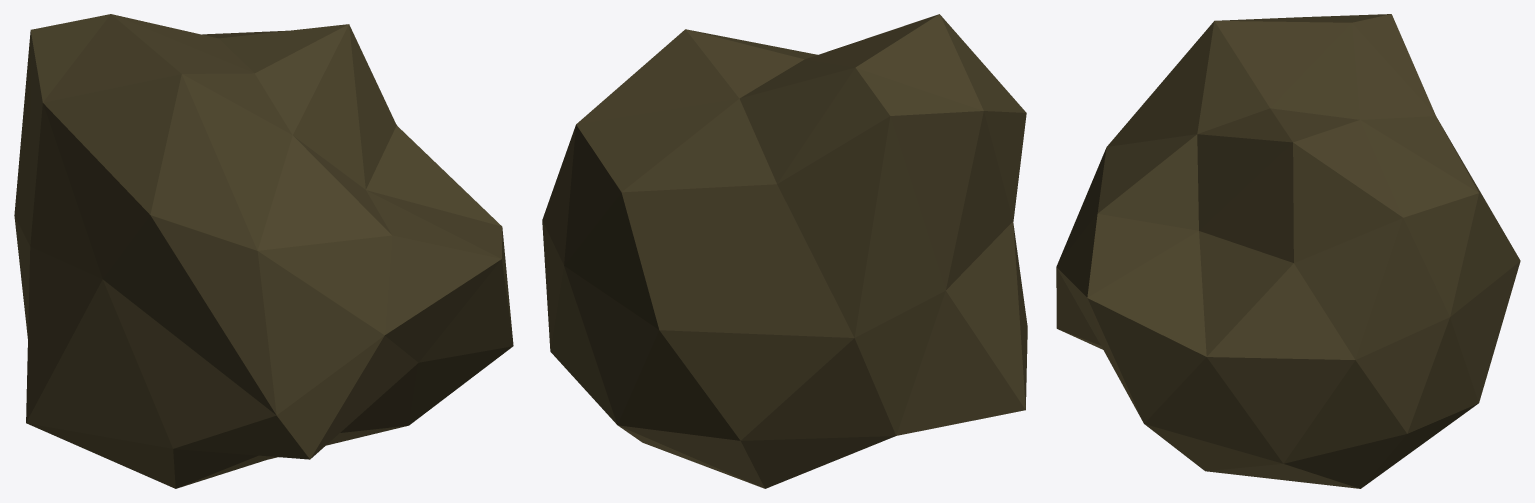
Rendered from roche1.fbx.
3 renders of one model, left to right at view 1: azimuth 30°, elevation 25°; view 2: azimuth 150°, elevation 25°; view 3: azimuth 270°, elevation 25°, orthographic. The views are drawn at different scales.
Visible parts, largest first — view 1: grosse pierre; view 2: grosse pierre; view 3: grosse pierre.
Boxes of the visible parts, x1,y1,x2,y2 form: grosse pierre: (14, 14, 513, 488); grosse pierre: (542, 14, 1027, 488); grosse pierre: (1056, 14, 1520, 488).
Bounding box in the file's own units: 1037 × 982 × 1068.
